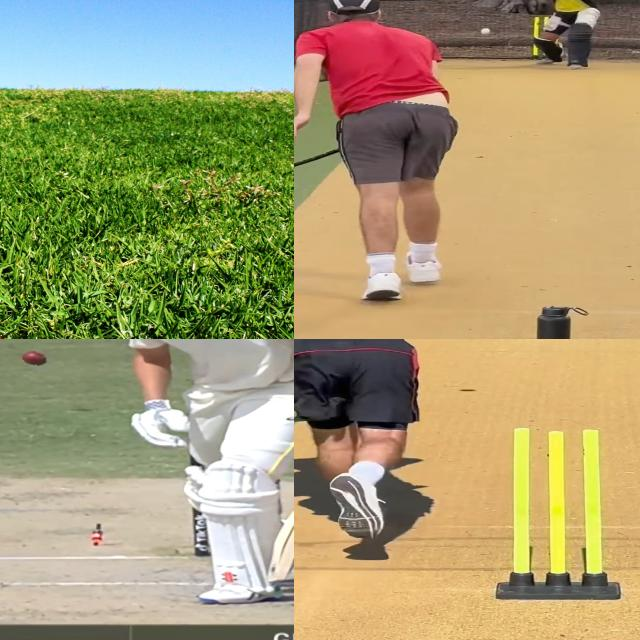Cricket ball: (22, 350, 47, 366), (479, 26, 493, 36)
Stumps: (495, 427, 623, 601)
